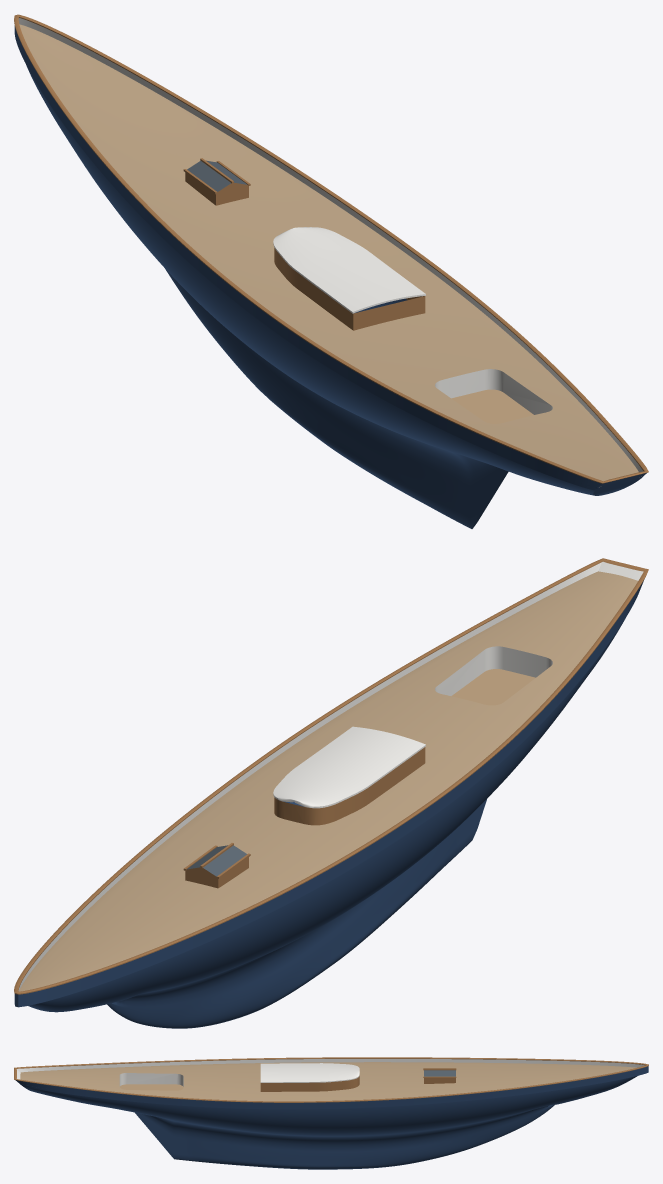
The model's file is jclass.glb.
3 views of the same model, one above another, from view 1: azimuth 30°, elevation 25°; view 2: azimuth 150°, elevation 25°; view 3: azimuth 270°, elevation 25° (orthographic). The views are drawn at different scales.
Visible parts, largest first — view 1: jclass; view 2: jclass; view 3: jclass.
Boxes of the visible parts, x1,y1,x2,y2 form: jclass: [14, 14, 648, 528]; jclass: [14, 558, 648, 1028]; jclass: [14, 1057, 648, 1169].
Size of the model in its own units: 6.6 by 7.21 by 39.64.
